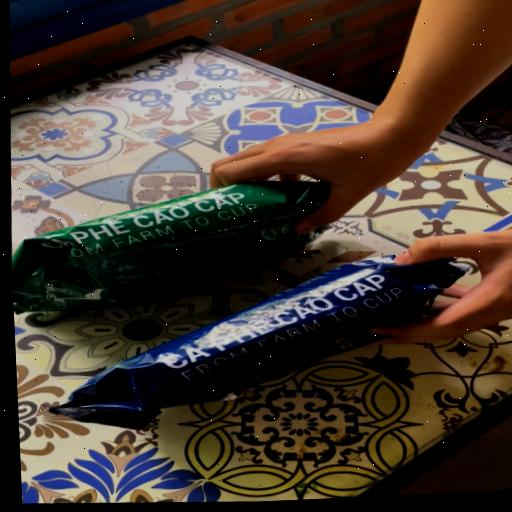cafe_hat: (50, 255, 468, 429), (11, 181, 328, 313)
cafe_xay: (11, 181, 328, 313)
